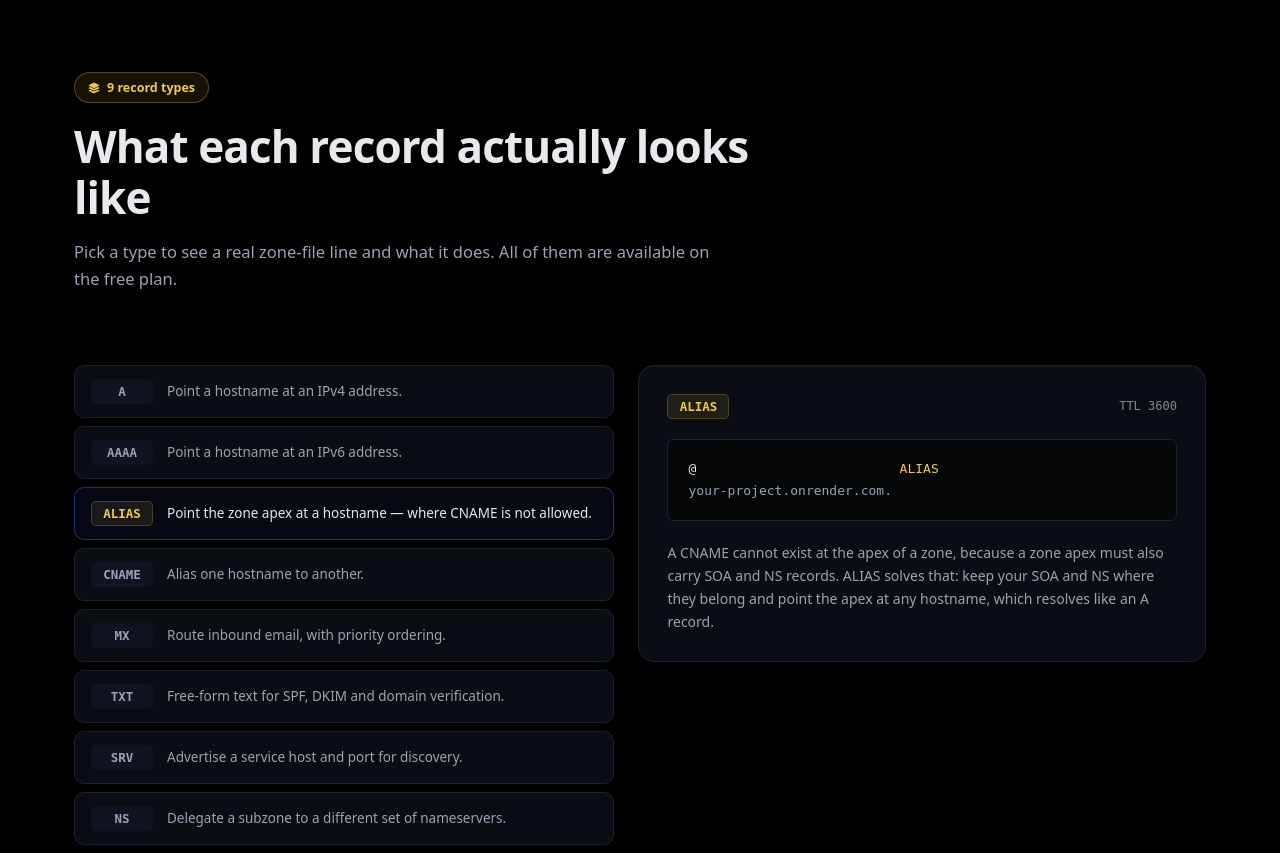
Test: DnsRecords explorer › opens on ALIAS and switches on selection
The width and height of the screenshot is (1280, 853).
Click the tab "MX Route inbound email, with priority ordering." at (344, 635), box [74,609,614,662]
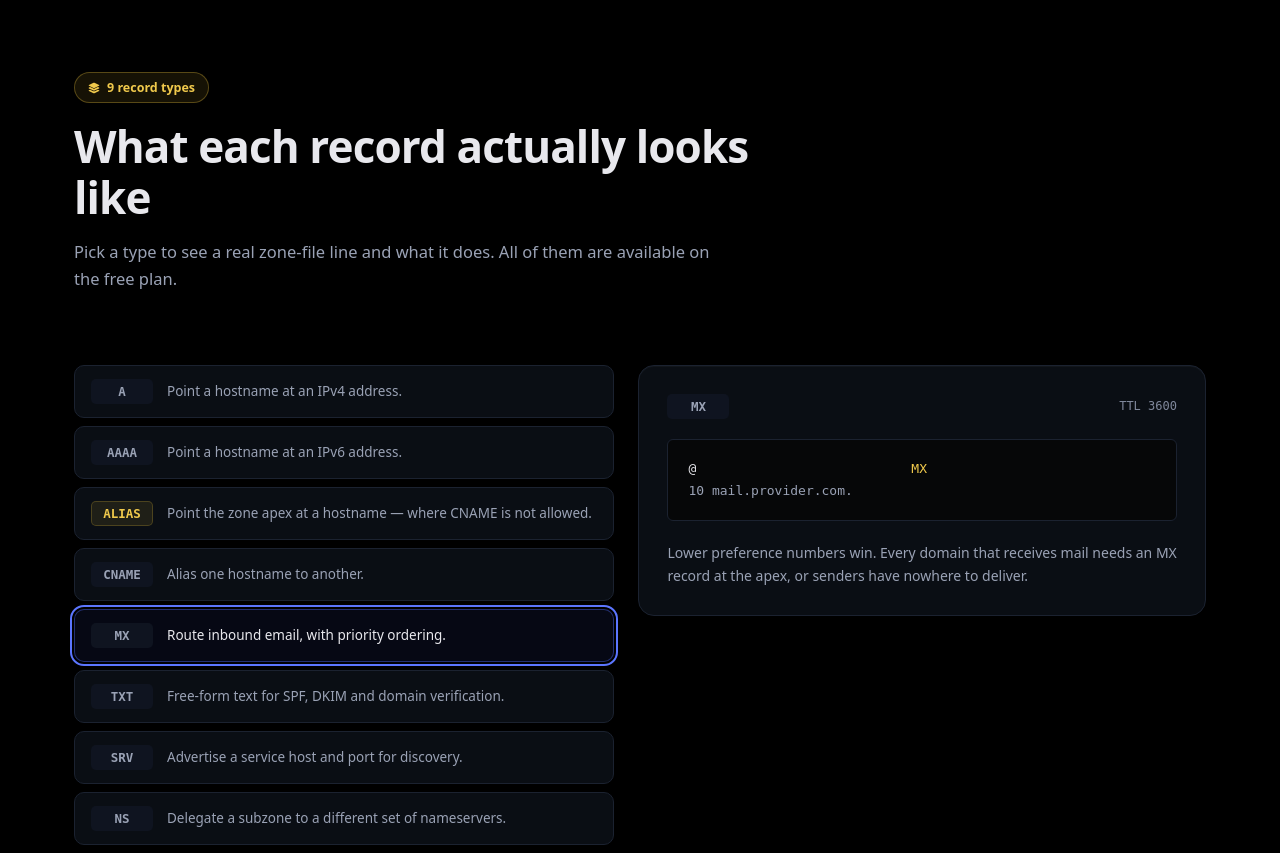
Check: the panel shows "10 mail.provider.com.", box [688,483,853,498]
